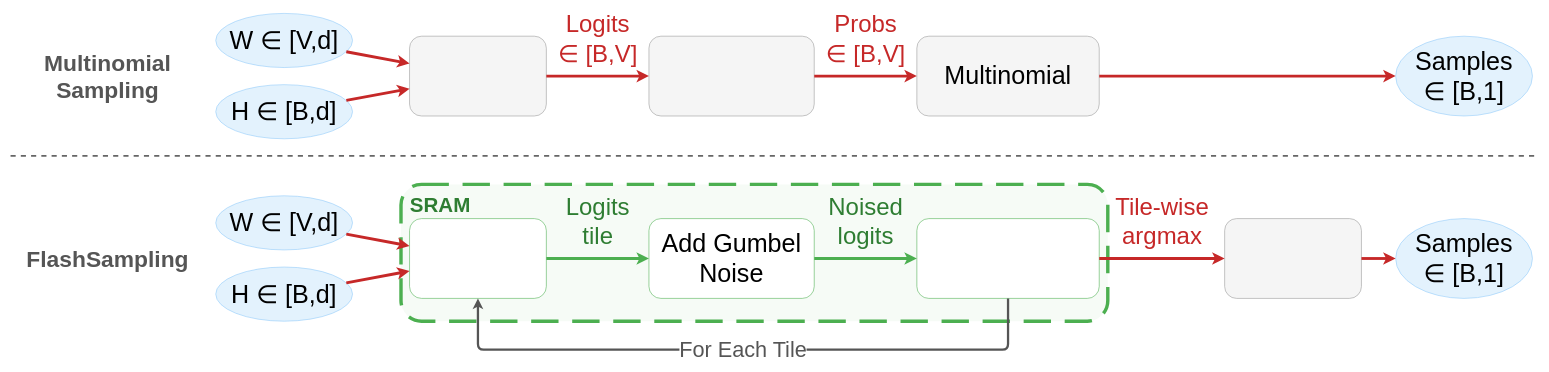
Some shapes in this 1549 by 372 pixel diagram are drawn without their labels. The centre of each missing label's shape, as x and y in pixels:
"Matmul (cuBLAS)" goes at point 477,76.
"Softmax" goes at point 731,76.
"Stage I argmax" goes at point 1007,258.
"Stage II argmax" goes at point 1292,258.
"Tile Matmul" goes at point 477,258.
